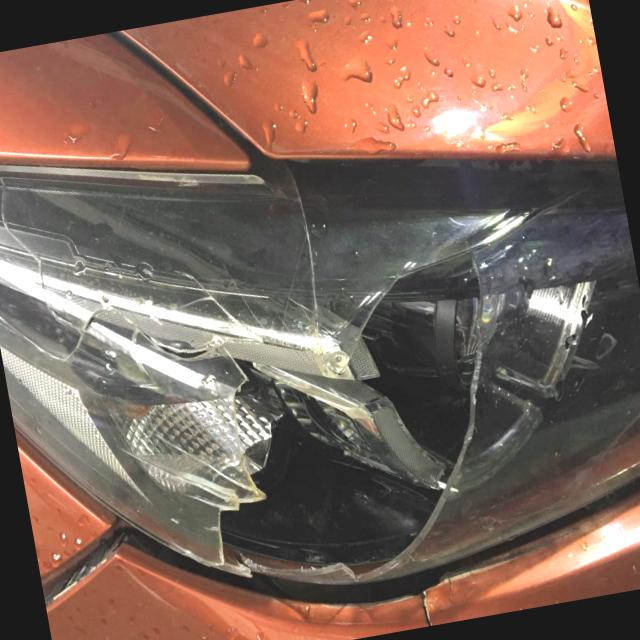Dechirure: (32, 512, 154, 626), (410, 579, 467, 628)
